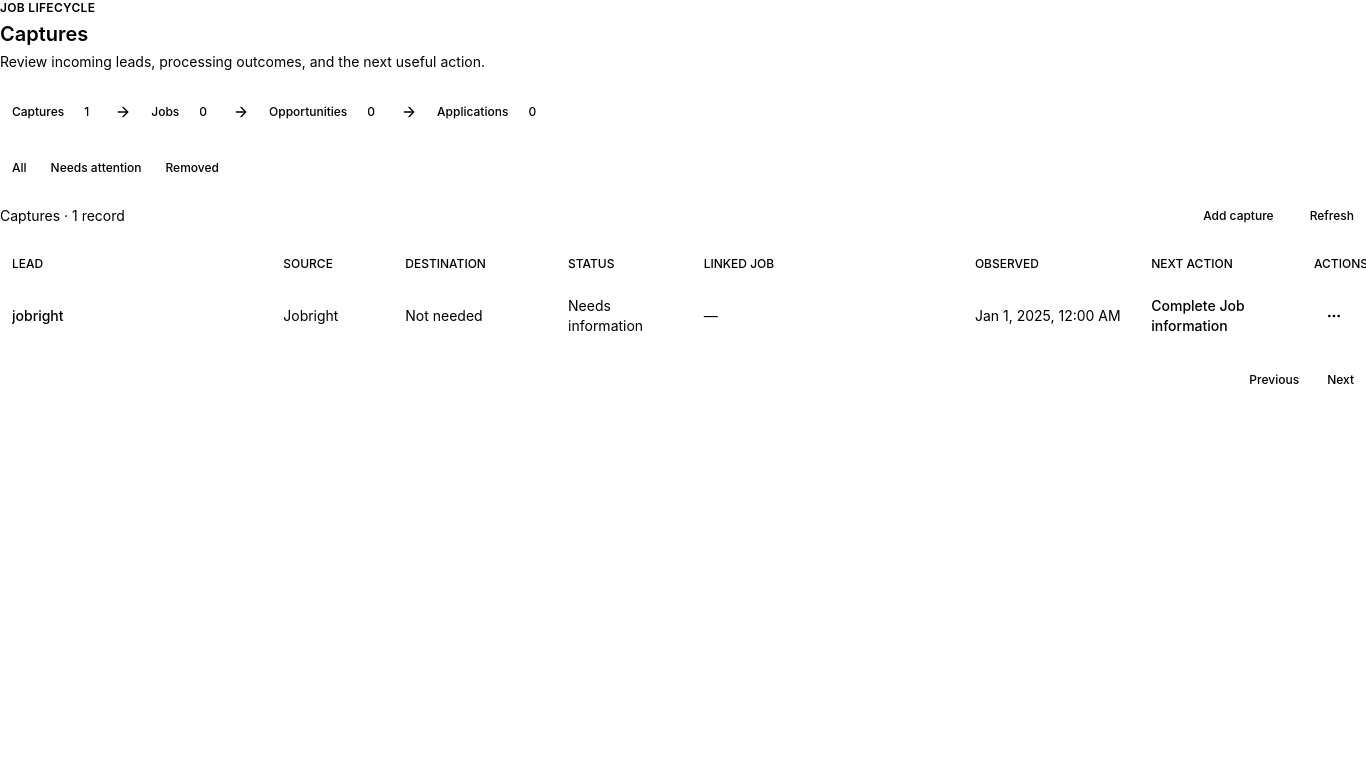
Test: LifecycleWorkbench action matrices and modal flows › closes a committed Capture removal and reports partial success when its refresh fails
Click the button named "Actions for row jobright" at (1334, 316), box [1314,300,1354,332]
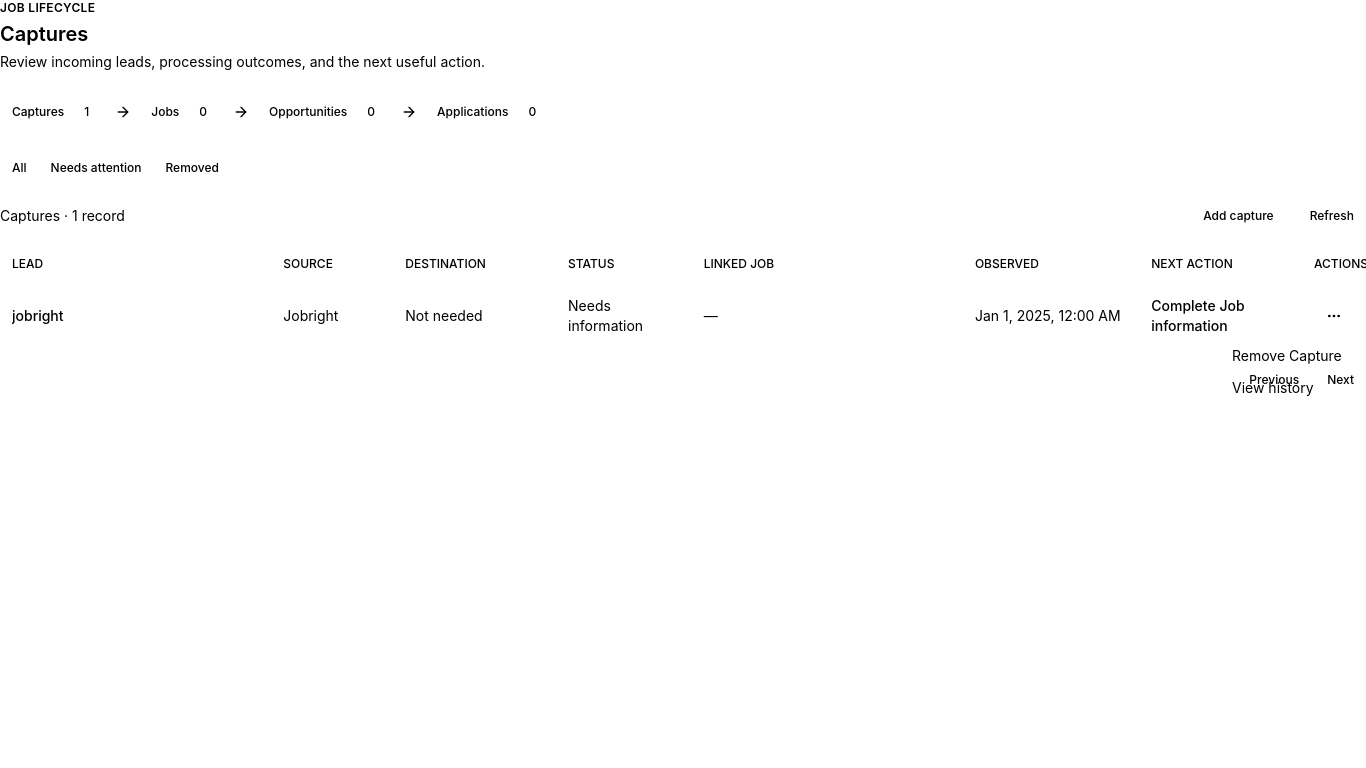
Click the menu item "Remove Capture" at (1287, 356), box [1232,347,1342,364]
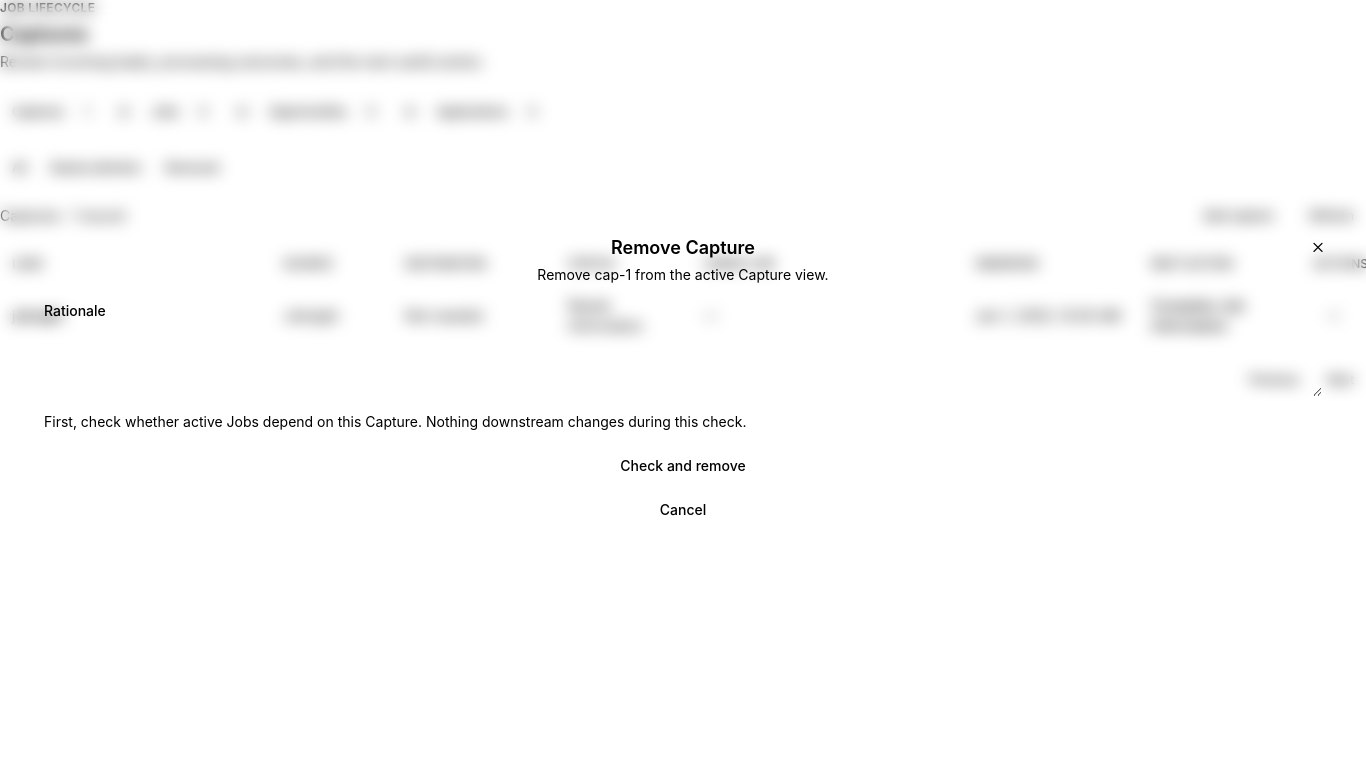
Type "Remove duplicate lead." into the text box labelled "Rationale" at (683, 365), box [44,333,1322,397]
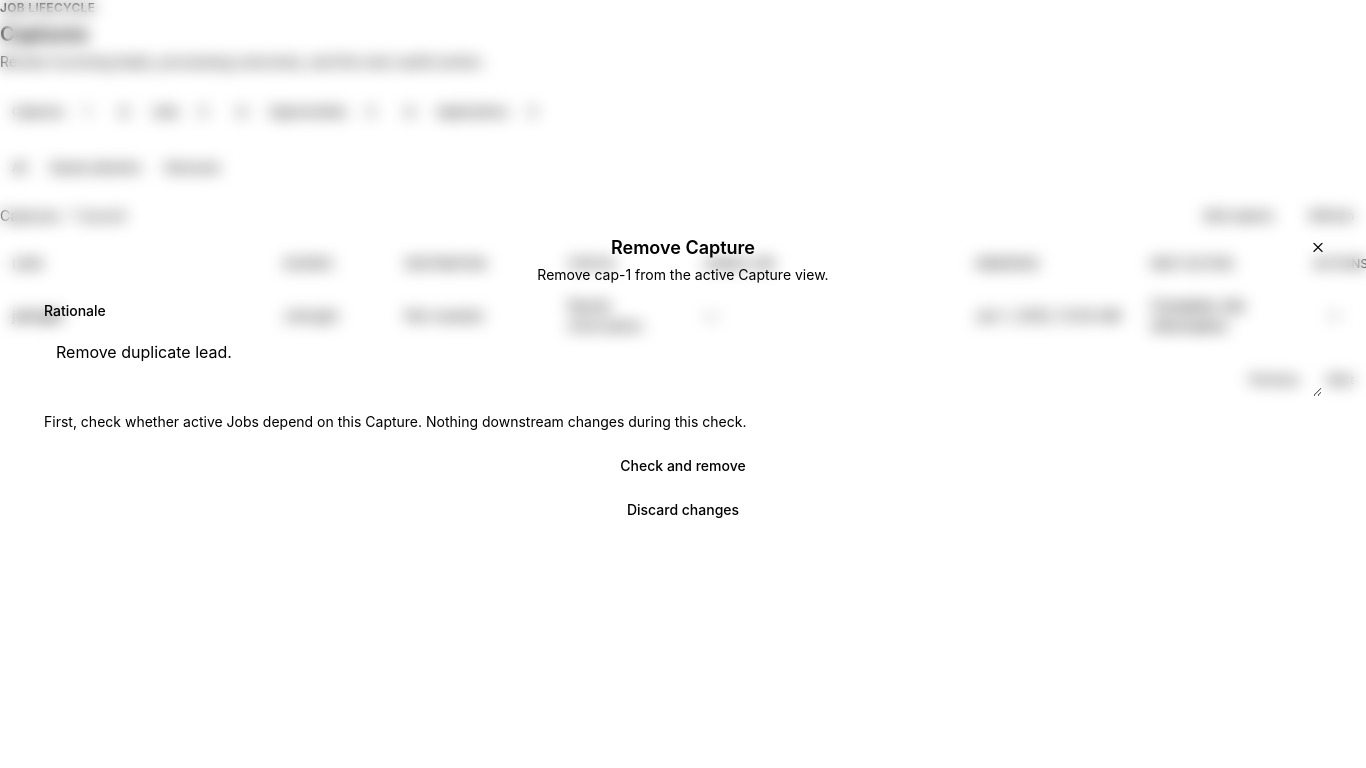
Double-click the button "Check and remove" at (683, 467), box [40,449,1326,485]
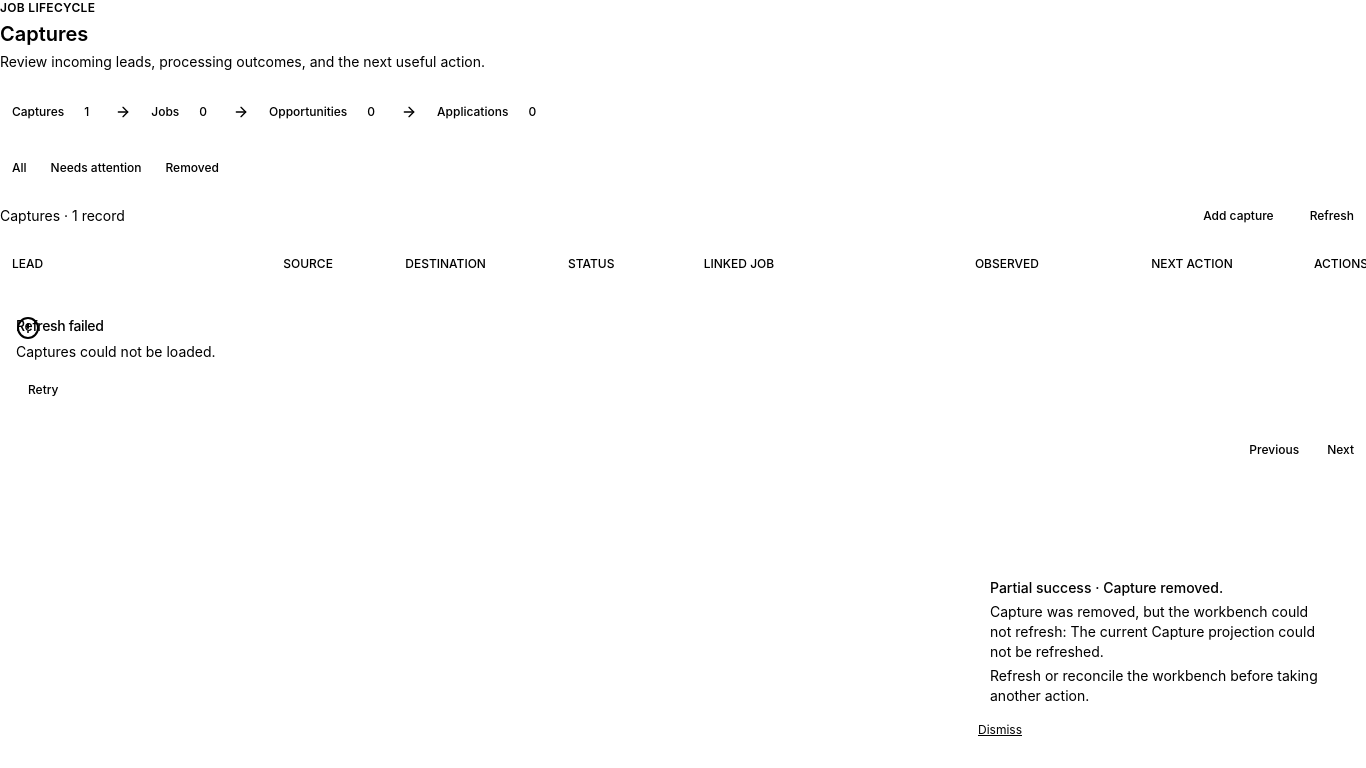
Result: the message with test id "lifecycle-outcome-partial-success" shows "Capture was removed, but the workbench could not refresh: The current Capture projection could not be refreshed." at [978,570,1338,714]
Result: the message with test id "lifecycle-outcome-partial-success" shows "Refresh or reconcile the workbench before taking another action." at [990,667,1318,704]
Result: the heading "Remove Capture" is gone
